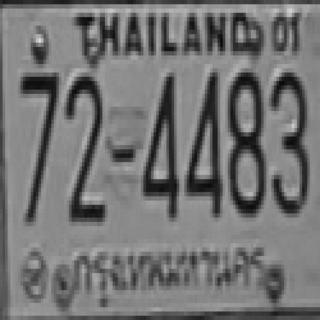N02: (65, 75, 104, 220)
N03: (269, 68, 307, 213)
N04: (141, 70, 177, 216), (184, 68, 220, 213)
N07: (18, 68, 56, 222), (18, 68, 56, 201)
N08: (225, 68, 264, 213)
P04: (66, 236, 270, 307)
